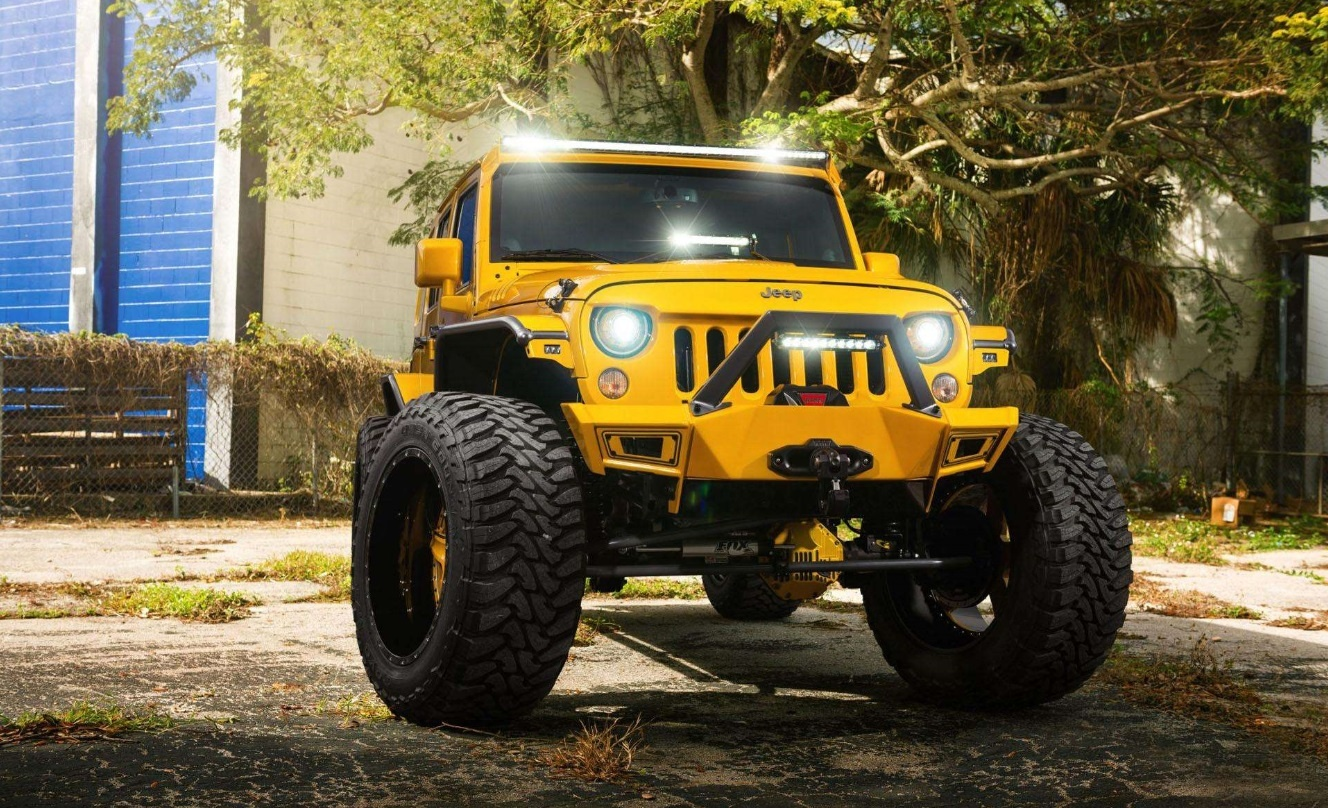jeep: (305, 132, 1142, 715)
